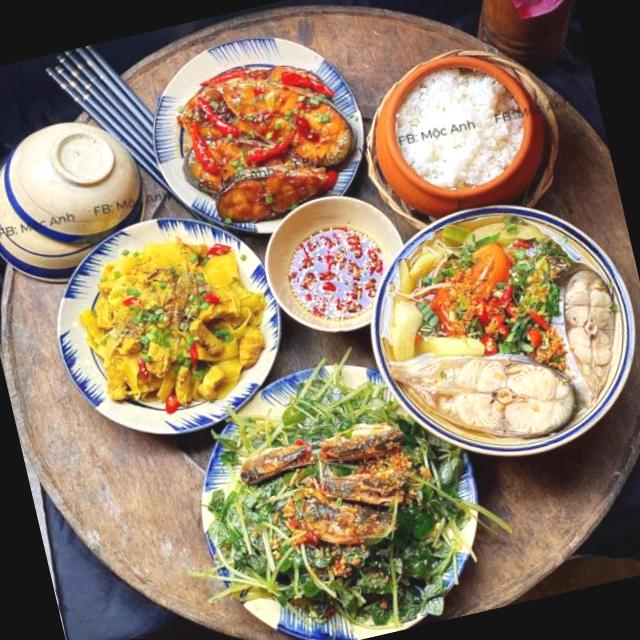ca kho: (175, 65, 357, 224)
canh chua: (391, 216, 616, 441)
com: (395, 68, 522, 189)
nuoc mam: (288, 226, 385, 320)
trung chien: (82, 237, 265, 415)
